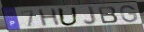7: (20, 9, 36, 28)
B: (97, 6, 120, 25)
G: (119, 5, 139, 23)
H: (37, 8, 62, 28)
J: (82, 6, 98, 26)
U: (57, 7, 81, 27)
